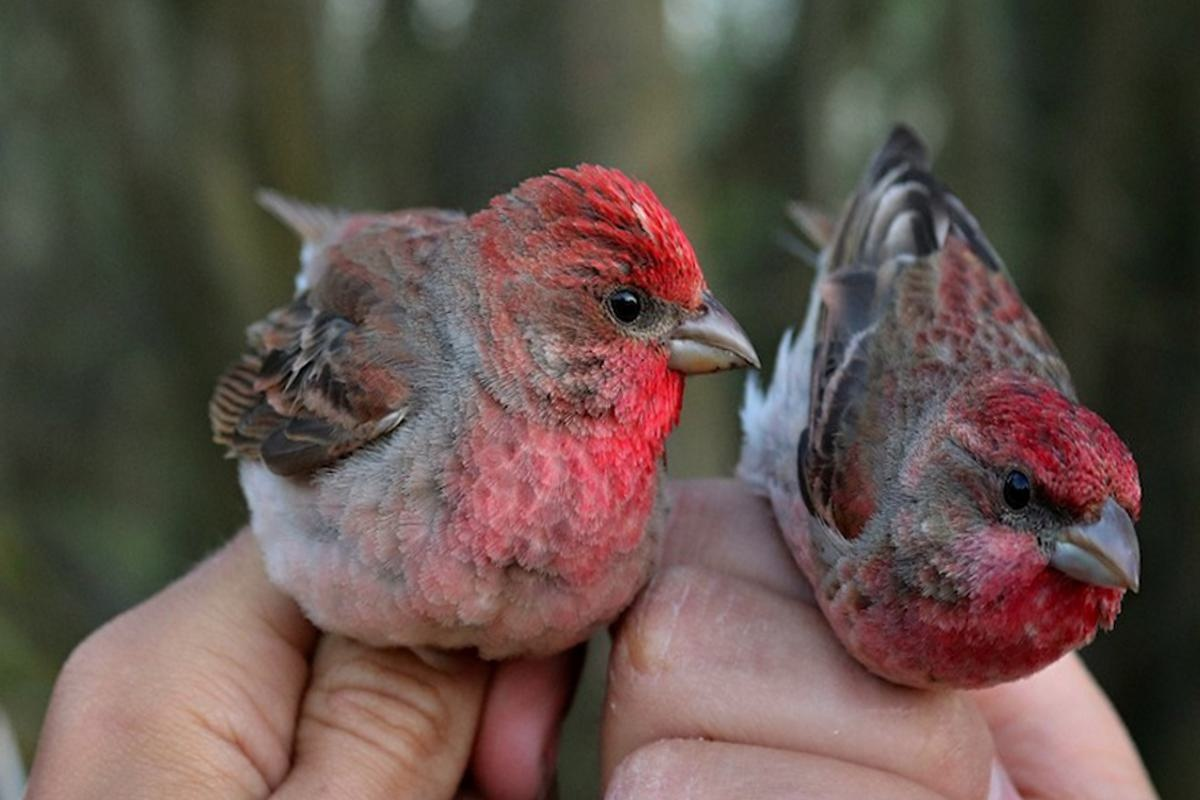rosefinch: (227, 172, 775, 645), (797, 166, 1153, 718)
